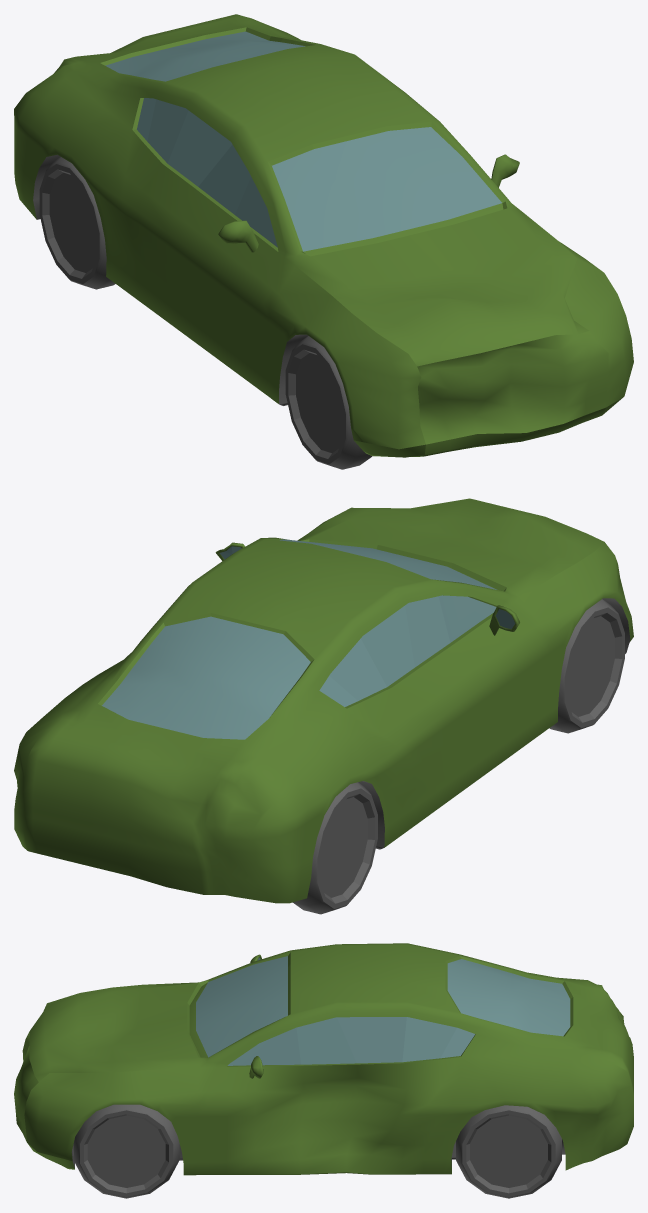
The model's file is Auto(1).fbx.
3 views of the same model, one above another, from view 1: azimuth 30°, elevation 25°; view 2: azimuth 150°, elevation 25°; view 3: azimuth 270°, elevation 25° (orthographic). The views are drawn at different scales.
Visible parts, largest first — view 1: CARRO_1; view 2: CARRO_1; view 3: CARRO_1.
Part boxes in pixels (x1=…): CARRO_1: x1=14, y1=14, x2=633, y2=469; CARRO_1: x1=14, y1=498, x2=633, y2=914; CARRO_1: x1=14, y1=943, x2=633, y2=1198.
Size of the model in its own units: 201 by 149 by 461.
